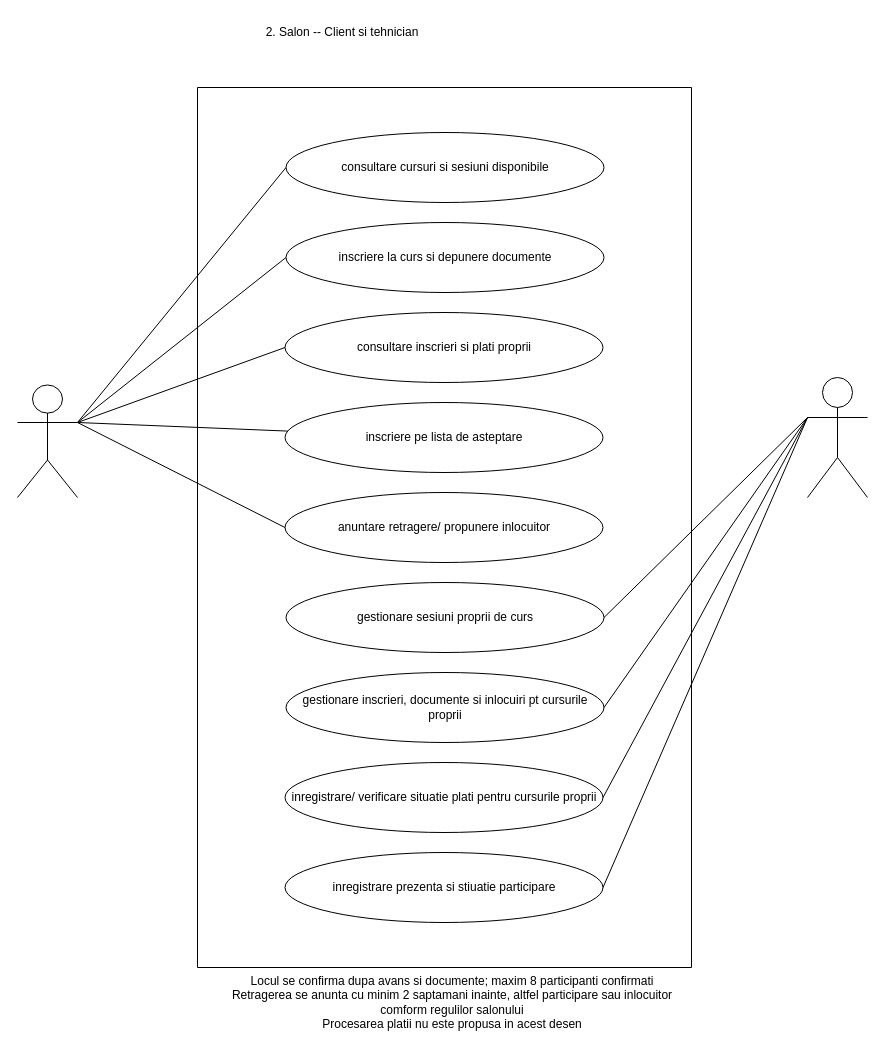
The diagram is 885 pixels wide and 1048 high, and some of its shapes have lost their labels. The shapes that lost their labels are listed below. From the top down, each one's centre as x and y in pixels, then its label:
pixel 47 441: client
pixel 837 437: trainer
